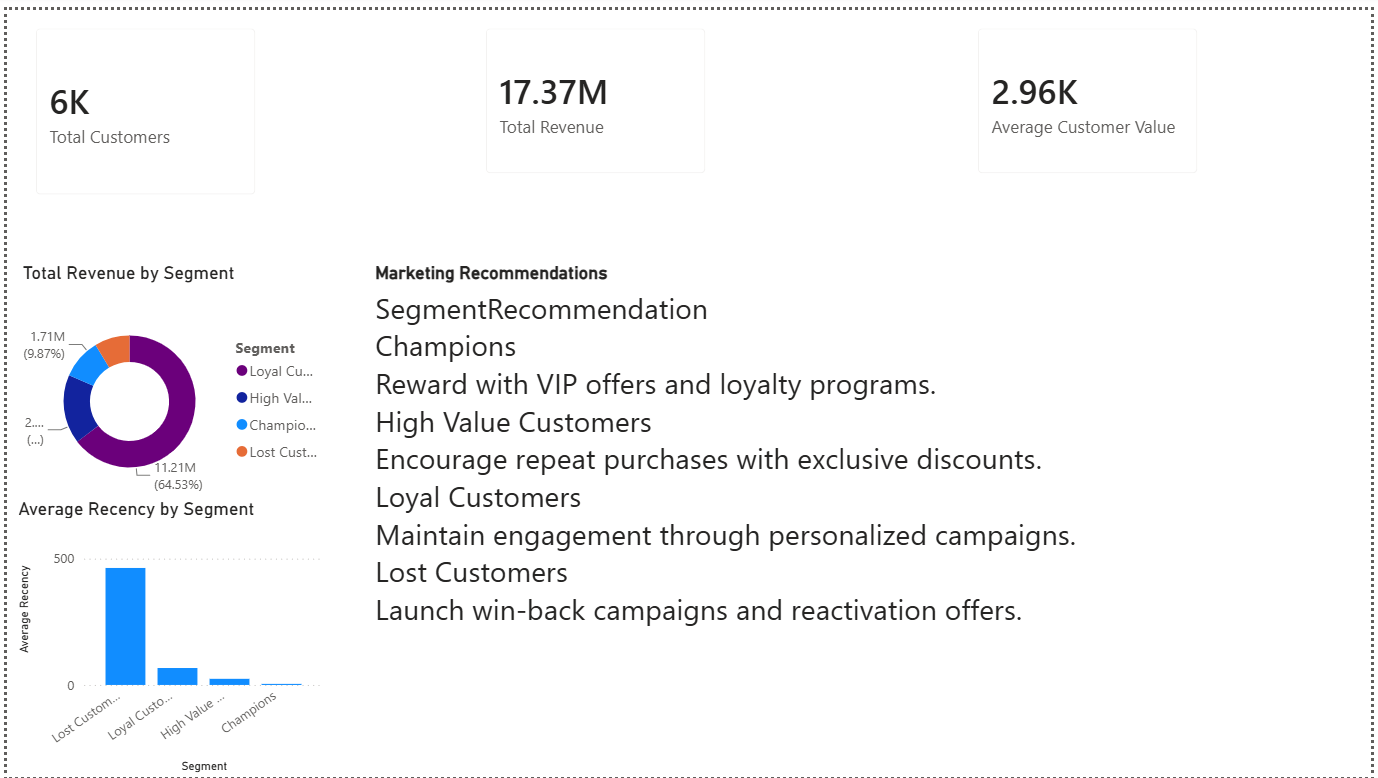

The page's visual inventory and layout, read from the dashboard file:
{"tool":"powerbi","page":{"name":"Marketing Insights","canvas":[1280,720],"ordinal":2},"visuals":[{"type":"cardVisual","fields":{"Data":["vw_customer_segments.Total Customers"]},"box":[9.4,0,240,190.9],"z":0},{"type":"cardVisual","fields":{"Data":["vw_customer_segments.Total Revenue"]},"box":[432.8,0,240,170.1],"z":1},{"type":"cardVisual","fields":{"Data":["vw_customer_segments.Average Customer Value"]},"box":[893.9,0,240,170.1],"z":2},{"type":"donutChart","fields":{"Category":["vw_customer_segments.Segment"],"Y":["vw_customer_segments.Total Revenue"]},"box":[9.4,236.2,296.7,241.9],"z":3},{"type":"clusteredColumnChart","fields":{"Category":["vw_customer_segments.Segment"],"Y":["vw_customer_segments.Average Recency"]},"box":[5.7,457.3,296.7,262.7],"z":4},{"type":"textbox","title":"Marketing Recommendations","box":[340.2,236.2,793.7,453.5],"z":5}]}

Visuals, with their boxes in screenshot pixels (x1, y1, x2, y2), scaled from the page's 1280x720 canvas onto the 1378x778 screenshot:
cardVisual - vw_customer_segments.Total Customers: bbox=(10, 0, 268, 206)
cardVisual - vw_customer_segments.Total Revenue: bbox=(466, 0, 724, 184)
cardVisual - vw_customer_segments.Average Customer Value: bbox=(962, 0, 1221, 184)
donutChart - vw_customer_segments.Segment x vw_customer_segments.Total Revenue: bbox=(10, 255, 330, 517)
clusteredColumnChart - vw_customer_segments.Segment x vw_customer_segments.Average Recency: bbox=(6, 494, 326, 777)
"Marketing Recommendations" textbox: bbox=(366, 255, 1221, 745)
